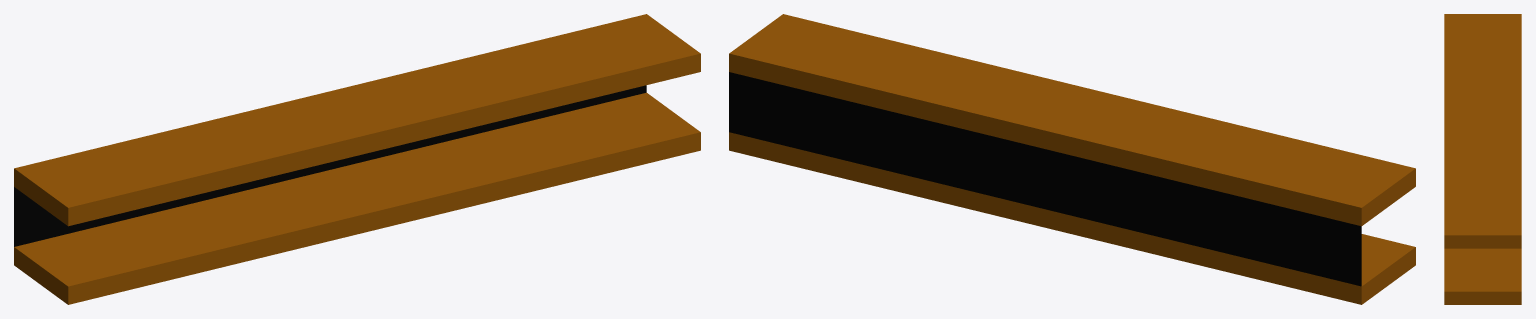
The model's file is slot-04.glb.
3 views of the same model, side by side, from view 1: azimuth 30°, elevation 25°; view 2: azimuth 150°, elevation 25°; view 3: azimuth 270°, elevation 25° (orthographic). The views are drawn at different scales.
Parts seen in each view (by area): view 1: Cube.020; view 2: Cube.020; view 3: Cube.020.
Part boxes in pixels (left/top/right/bottom): Cube.020: left=14, top=14, right=700, bottom=304; Cube.020: left=729, top=14, right=1415, bottom=304; Cube.020: left=1444, top=14, right=1521, bottom=304.
Size of the model in its own units: 2.07 by 0.3039 by 0.3066.
